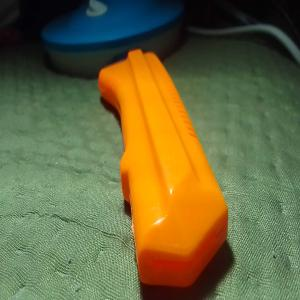estilete: (98, 48, 228, 287)
